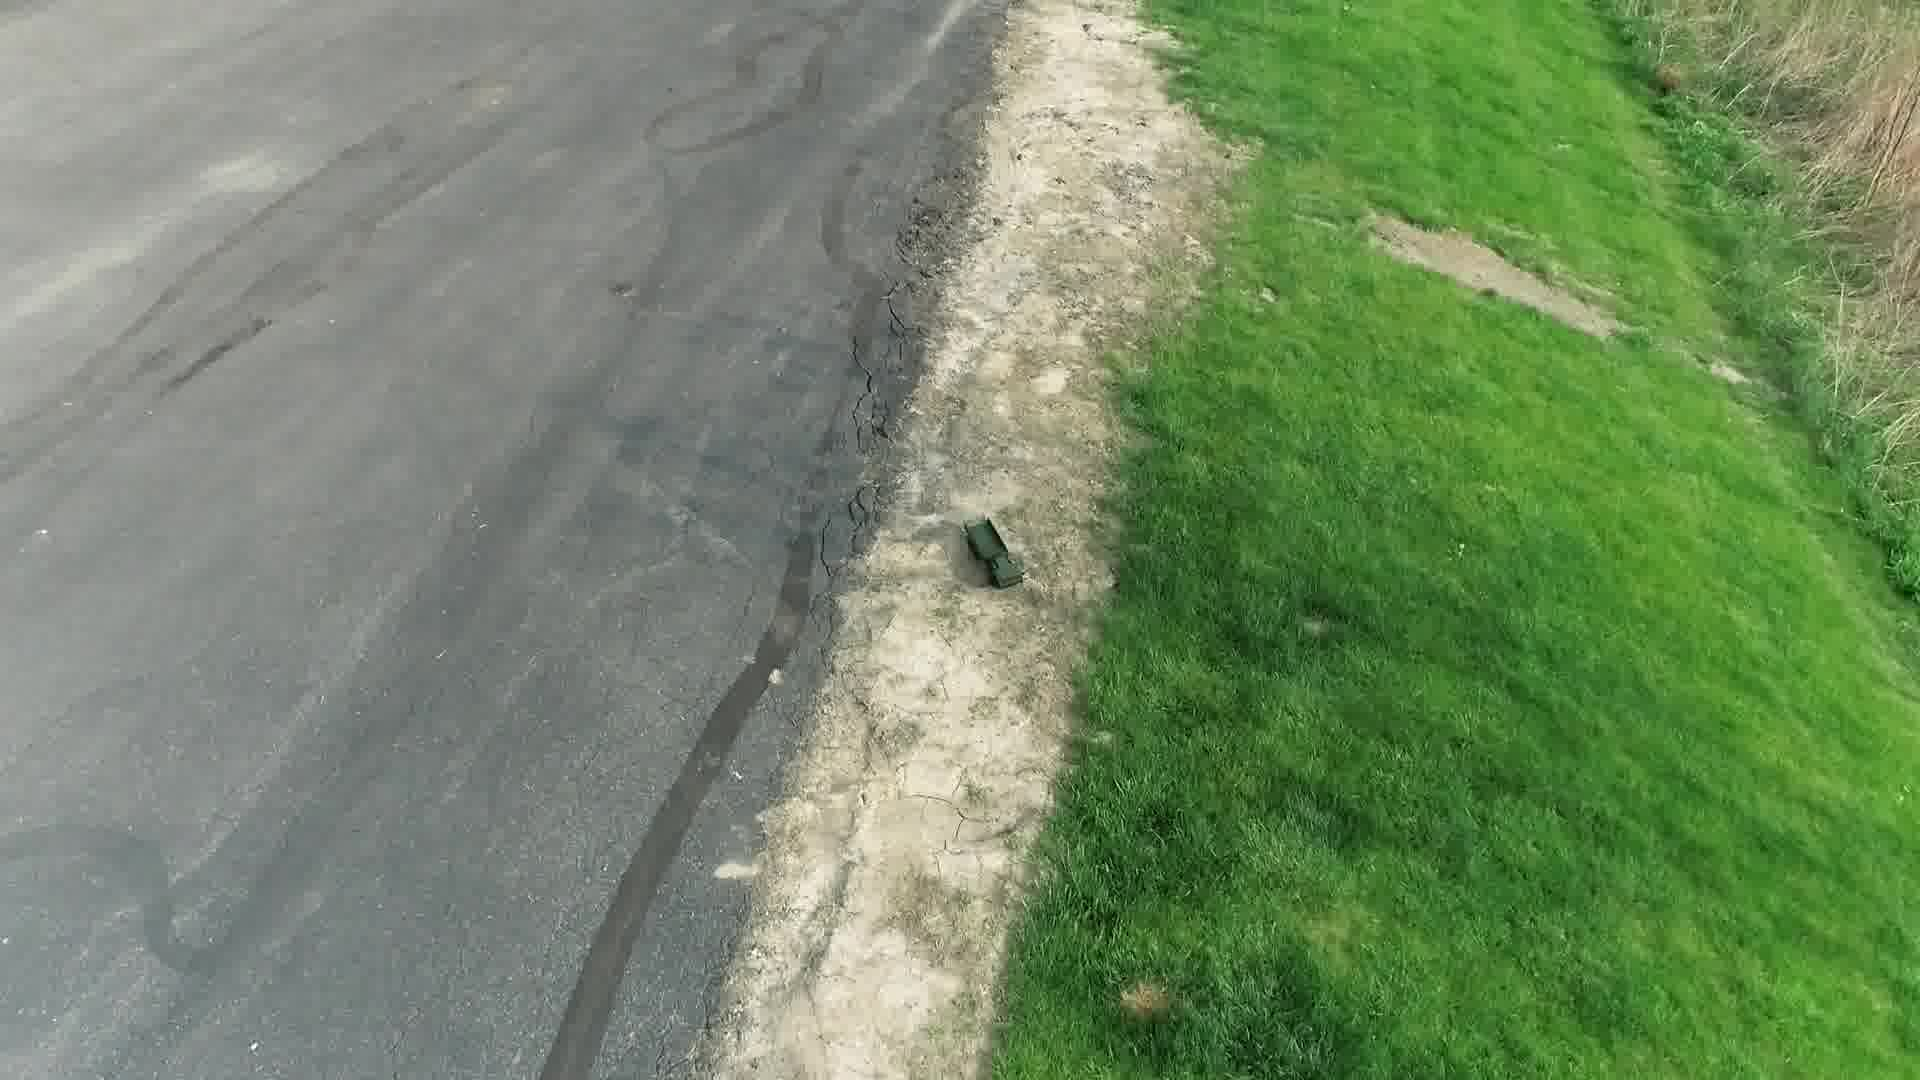transporter9: (959, 516, 1025, 589)
